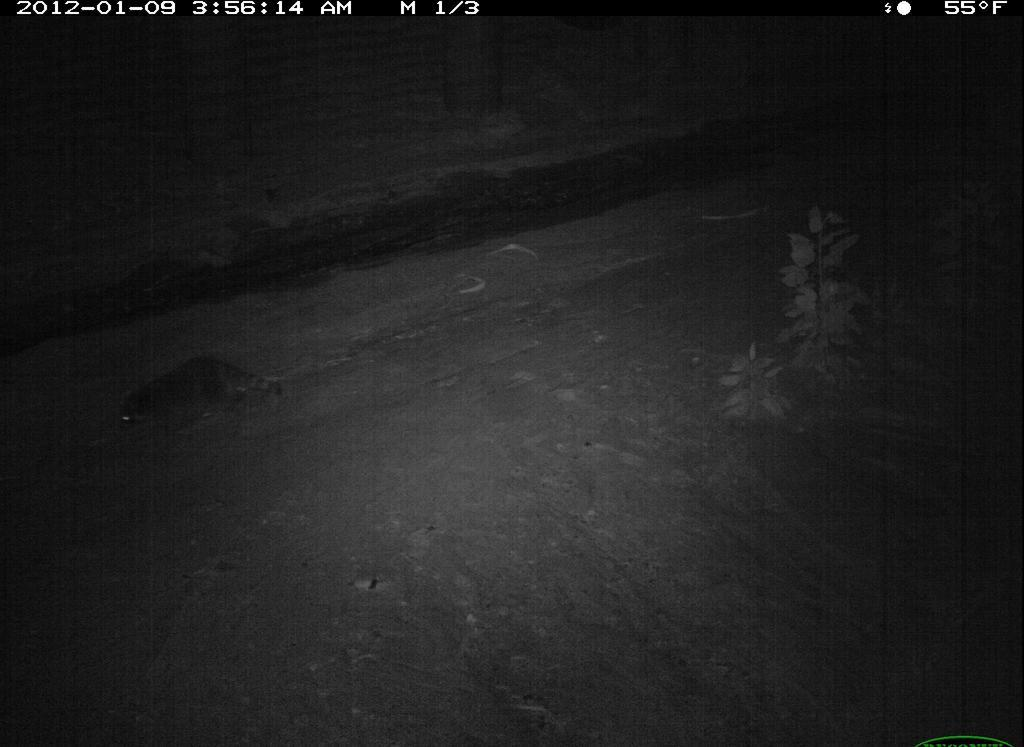raccoon: (105, 349, 290, 465)
